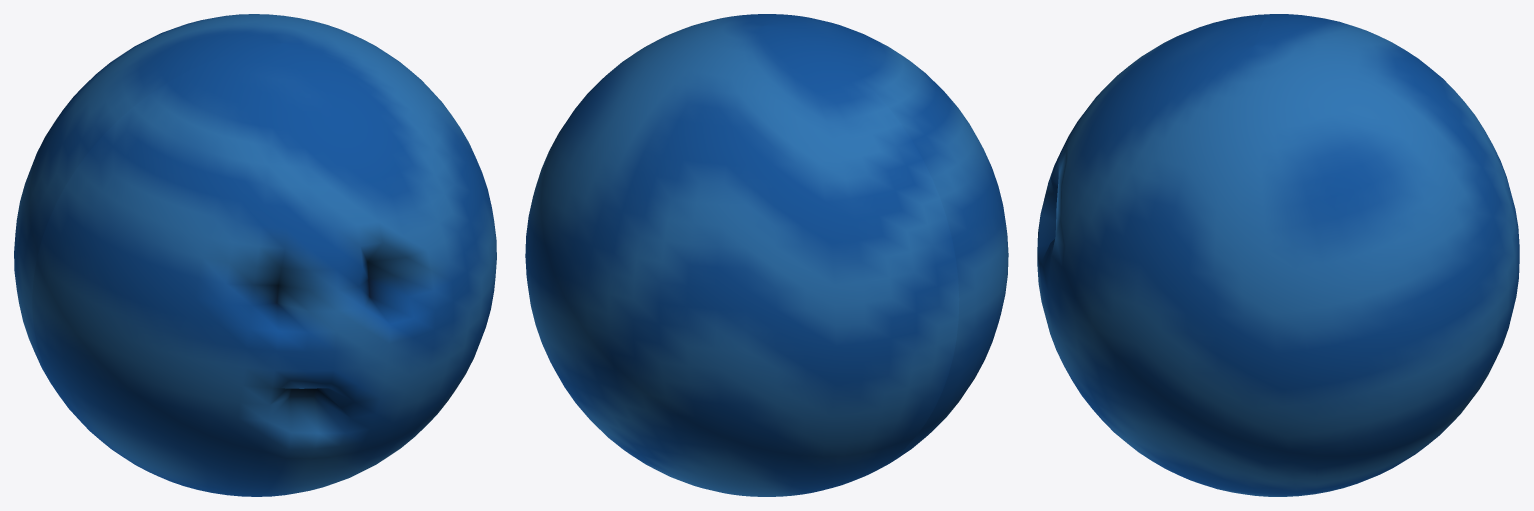
Rendered from bowlingblue.glb.
3 views of the same model, side by side, from view 1: azimuth 30°, elevation 25°; view 2: azimuth 150°, elevation 25°; view 3: azimuth 270°, elevation 25° (orthographic).
Parts seen in each view (by area): view 1: bowlingblue; view 2: bowlingblue; view 3: bowlingblue.
Part boxes in pixels (box(x1,y1,x2,y2)): bowlingblue: box(14, 14, 496, 496); bowlingblue: box(525, 14, 1008, 496); bowlingblue: box(1037, 14, 1519, 496).
Bounding box in the file's own units: 0.9578 × 0.9574 × 0.9562.
